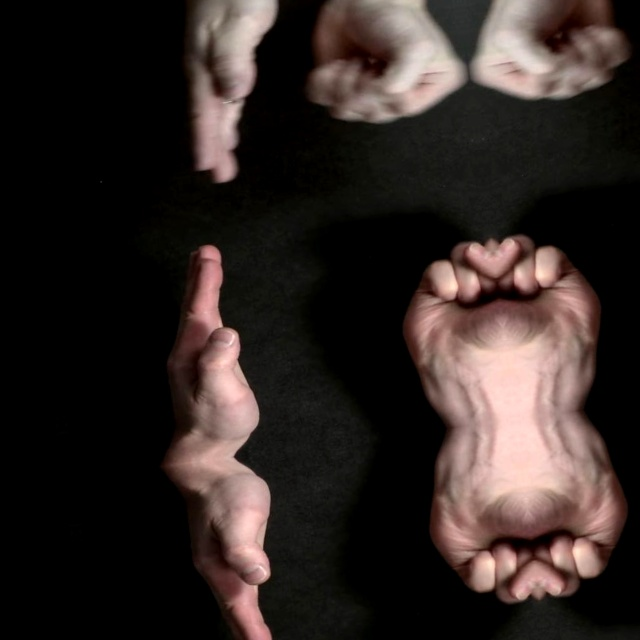Rock: (458, 0, 636, 111), (491, 220, 608, 360)
